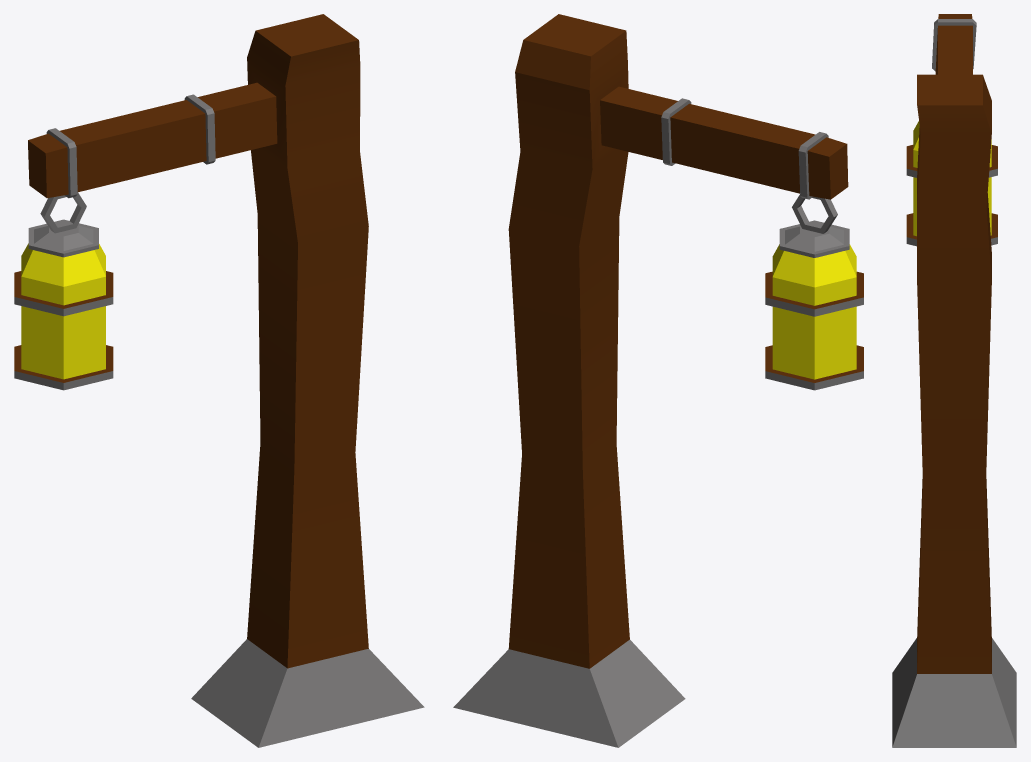
Rendered from lamp.obj.
3 renders of one model, left to right at view 1: azimuth 30°, elevation 25°; view 2: azimuth 150°, elevation 25°; view 3: azimuth 270°, elevation 25°, orthographic. The views are drawn at different scales.
Parts seen in each view (by area): view 1: Lamp_Post_01 Lamp_Post_01; view 2: Lamp_Post_01 Lamp_Post_01; view 3: Lamp_Post_01 Lamp_Post_01.
Part boxes in pixels (x1,y1,x2,y2): Lamp_Post_01 Lamp_Post_01: (14,14,424,747); Lamp_Post_01 Lamp_Post_01: (453,14,863,747); Lamp_Post_01 Lamp_Post_01: (892,14,1016,747).
Size of the model in its own units: 1.2 by 2.03 by 0.3698.
Materials: 1 (1 with a texture image).
